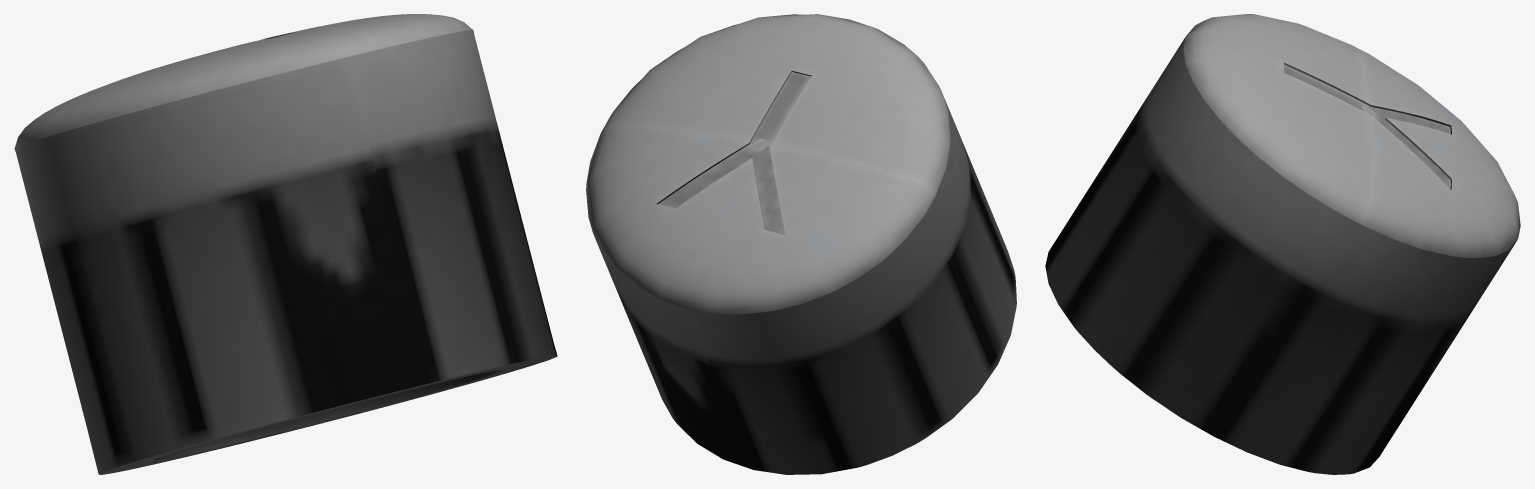
Rendered from button_y.obj.
The picture shows the model from 3 angles, left to right: view 1: azimuth 30°, elevation 25°; view 2: azimuth 150°, elevation 25°; view 3: azimuth 270°, elevation 25°; orthographic projection. The views are drawn at different scales.
Visible parts, largest first — view 1: button_y.001; view 2: button_y.001; view 3: button_y.001.
Boxes of the visible parts, left/top/right/bottom form: button_y.001: left=14, top=14, right=557, bottom=474; button_y.001: left=586, top=14, right=1016, bottom=474; button_y.001: left=1045, top=14, right=1520, bottom=474.
Size of the model in its own units: 0.01 by 0.0113 by 0.0122.
1 material, 1 textured.
